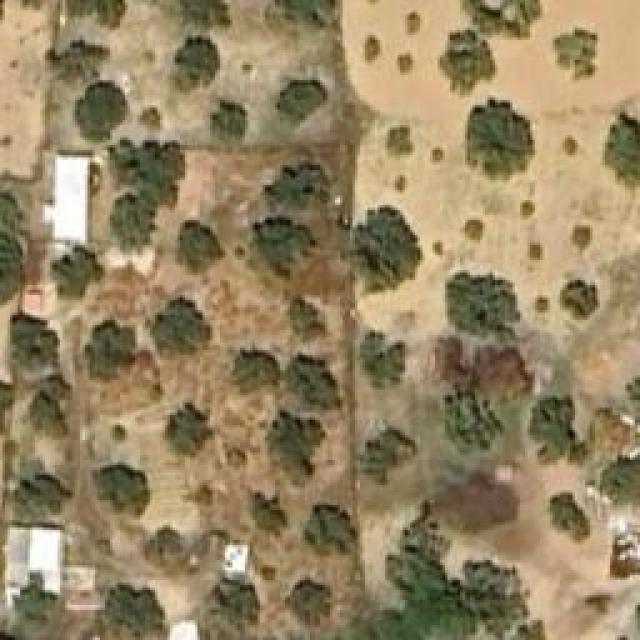Tree: (355, 205, 425, 293), (465, 98, 535, 183), (448, 270, 521, 343), (263, 410, 323, 483), (145, 297, 210, 355), (530, 398, 588, 461), (165, 30, 223, 90), (385, 548, 448, 601), (250, 215, 308, 268), (440, 393, 490, 453), (353, 330, 406, 385), (10, 573, 63, 628), (78, 82, 128, 140), (92, 465, 150, 515), (363, 430, 413, 488), (8, 315, 58, 373), (268, 162, 328, 210), (285, 358, 338, 411), (100, 590, 158, 638), (440, 33, 490, 88), (50, 248, 103, 298), (85, 323, 133, 378), (177, 220, 225, 273), (107, 195, 155, 248), (553, 28, 598, 83), (168, 403, 213, 458), (275, 80, 328, 125), (230, 350, 280, 395), (303, 505, 348, 555), (607, 117, 640, 184), (550, 490, 590, 543), (597, 452, 640, 499), (15, 472, 68, 510), (278, 298, 323, 341), (288, 580, 328, 623), (210, 98, 248, 143), (68, 0, 128, 28), (27, 393, 65, 436), (558, 280, 598, 320), (142, 528, 180, 563), (385, 125, 415, 160), (555, 135, 585, 158), (363, 33, 383, 66), (575, 222, 595, 250), (458, 220, 483, 240), (403, 13, 423, 36), (397, 53, 415, 76), (528, 240, 543, 263)
